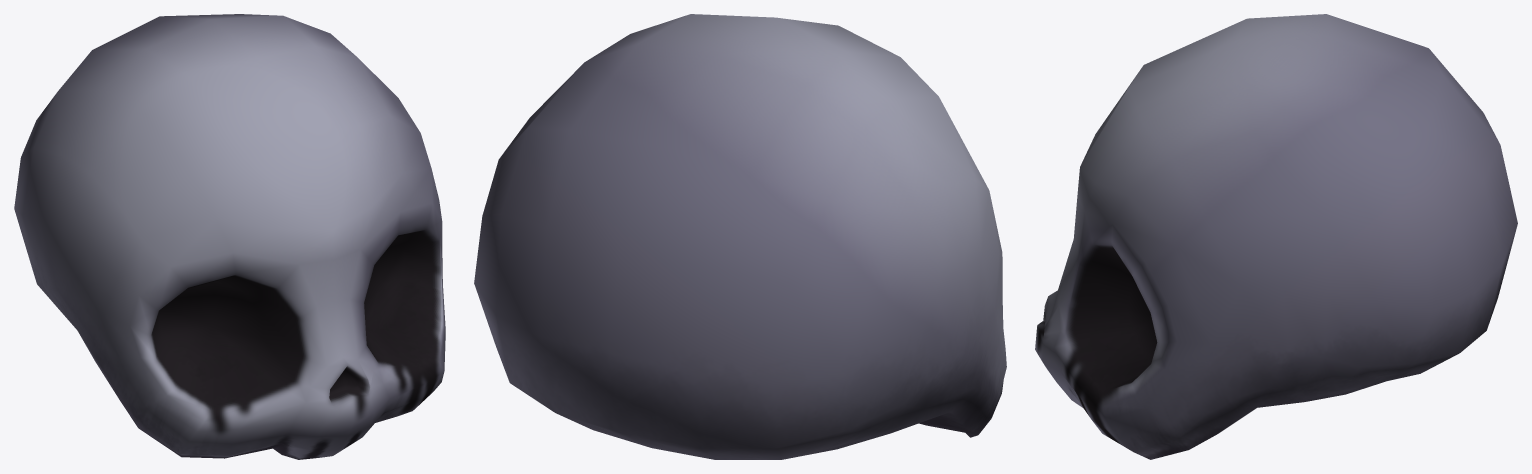
The model's file is Skull.fbx.
The picture shows the model from 3 angles, left to right: view 1: azimuth 30°, elevation 25°; view 2: azimuth 150°, elevation 25°; view 3: azimuth 270°, elevation 25°; orthographic projection. The views are drawn at different scales.
Visible parts, largest first — view 1: skull; view 2: skull; view 3: skull.
Part boxes in pixels (x1=…): skull: x1=14, y1=14, x2=445, y2=459; skull: x1=474, y1=14, x2=1006, y2=459; skull: x1=1035, y1=14, x2=1517, y2=459.
Bounding box in the file's own units: 1.42 × 1.38 × 1.61.
Materials: 1 (1 with a texture image).
